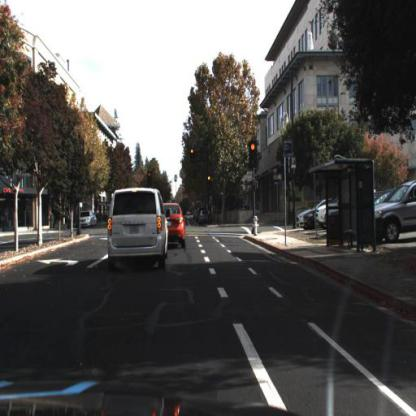car: (102, 185, 171, 270), (370, 182, 416, 247), (373, 179, 416, 243), (164, 199, 188, 255), (303, 198, 337, 232), (297, 196, 327, 233), (315, 193, 343, 231), (75, 209, 96, 233), (76, 210, 98, 230)
trafficLight-Red: (248, 138, 259, 172), (249, 140, 258, 169), (190, 143, 198, 170), (206, 172, 215, 195), (191, 147, 196, 161), (208, 174, 213, 188)
trafficLight-RedLeft: (146, 168, 155, 185), (147, 170, 154, 187)
